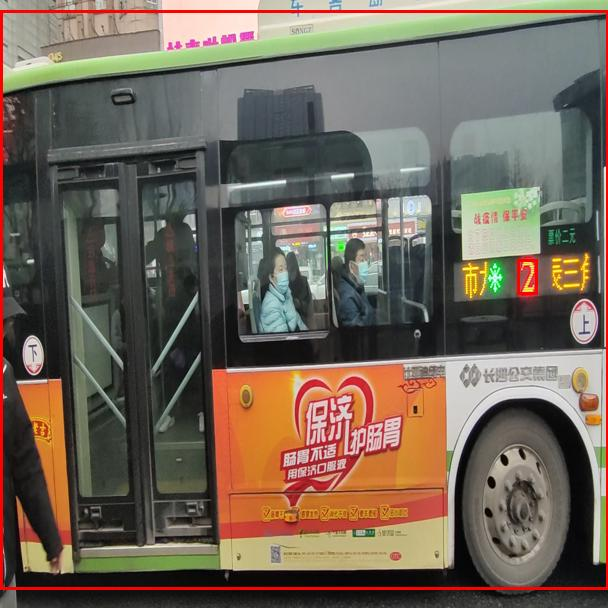bus: (0, 10, 608, 589)
screen: (517, 259, 537, 294)
